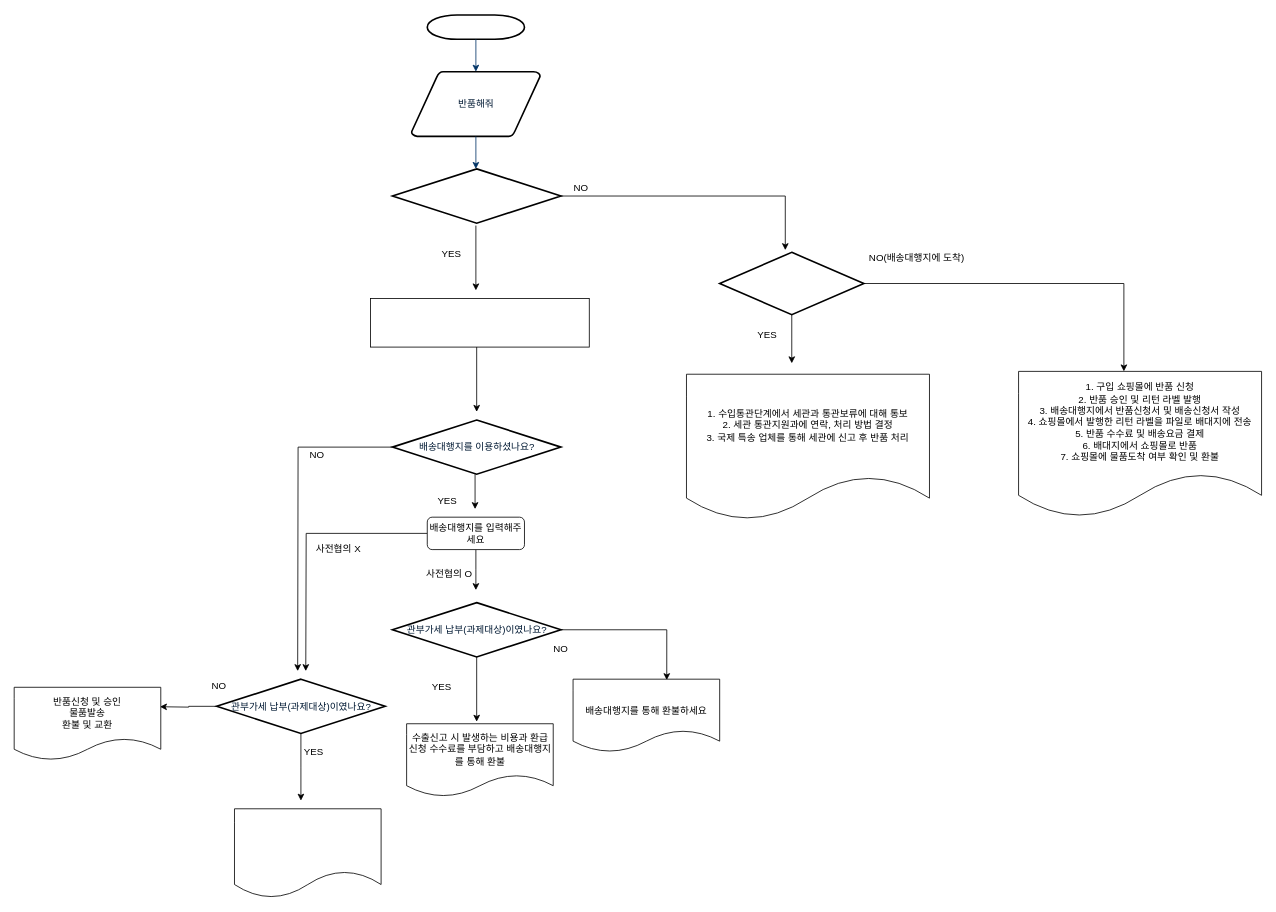
Some shapes in this 1276 by 912 pixel diagram are drawn without their labels. The shapes that lost their labels are listed below. From the top down, each one's centre as x and y in pixels, then its label:
At pixel 475 27: "돌직구 챗봇 시작".
At pixel 476 196: "물품을 수령하셨나요?".
At pixel 791 283: "현재 물품이 수입통관단계에 있나요?".
At pixel 479 322: "물품을 수령하신 후 반품하실경우 배송대행지 이용여부와 관부가세 납부여부에 따라 절차가 달라집니다!".
At pixel 307 853: "반품신청 및 승인-> 수출신고-> 물품발송-> 관세 환급 신청-> 환불과 관세환급".
